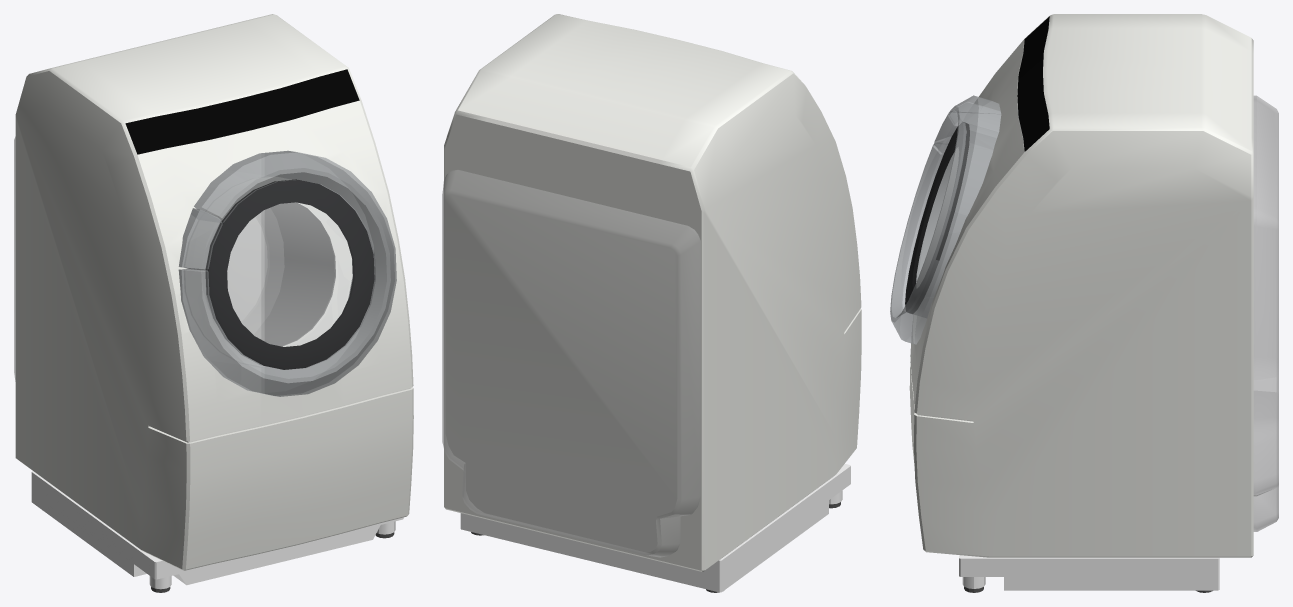
The model's file is SM_WashingMachine_1.fbx.
3 views of the same model, side by side, from view 1: azimuth 30°, elevation 25°; view 2: azimuth 150°, elevation 25°; view 3: azimuth 270°, elevation 25° (orthographic). The views are drawn at different scales.
Parts seen in each view (by area): view 1: SM_WashingMachine_1; view 2: SM_WashingMachine_1; view 3: SM_WashingMachine_1.
Part boxes in pixels (left/top/right/bottom): SM_WashingMachine_1: left=14, top=14, right=413, bottom=592; SM_WashingMachine_1: left=442, top=14, right=861, bottom=592; SM_WashingMachine_1: left=890, top=14, right=1278, bottom=592.
Size of the model in its own units: 0.6 by 1.01 by 0.7759.
8 materials, 1 textured.
